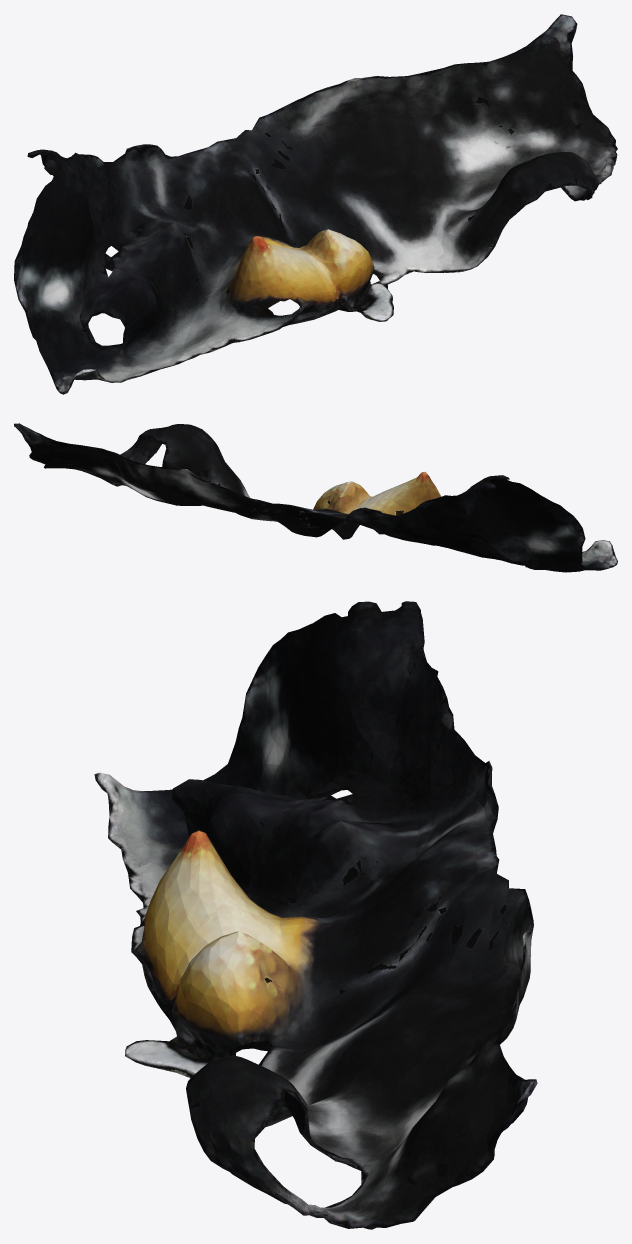
File: trellis_result.glb
3 views of the same model, one above another, from view 1: azimuth 30°, elevation 25°; view 2: azimuth 150°, elevation 25°; view 3: azimuth 270°, elevation 25° (orthographic). The views are drawn at different scales.
Visible parts, largest first — view 1: world; view 2: world; view 3: world.
Boxes of the visible parts, <box> form: world: <box>14,14,617,394</box>; world: <box>14,423,617,572</box>; world: <box>94,601,537,1229</box>.
Size of the model in its own units: 0.9908 by 0.2563 by 0.3782.
1 material, 1 textured.
